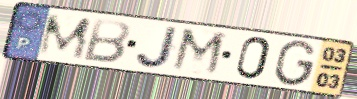0: (234, 35, 272, 82)
B: (80, 17, 133, 65)
G: (271, 38, 318, 88)
J: (134, 25, 182, 70)
M: (169, 26, 230, 79), (35, 13, 95, 61)
